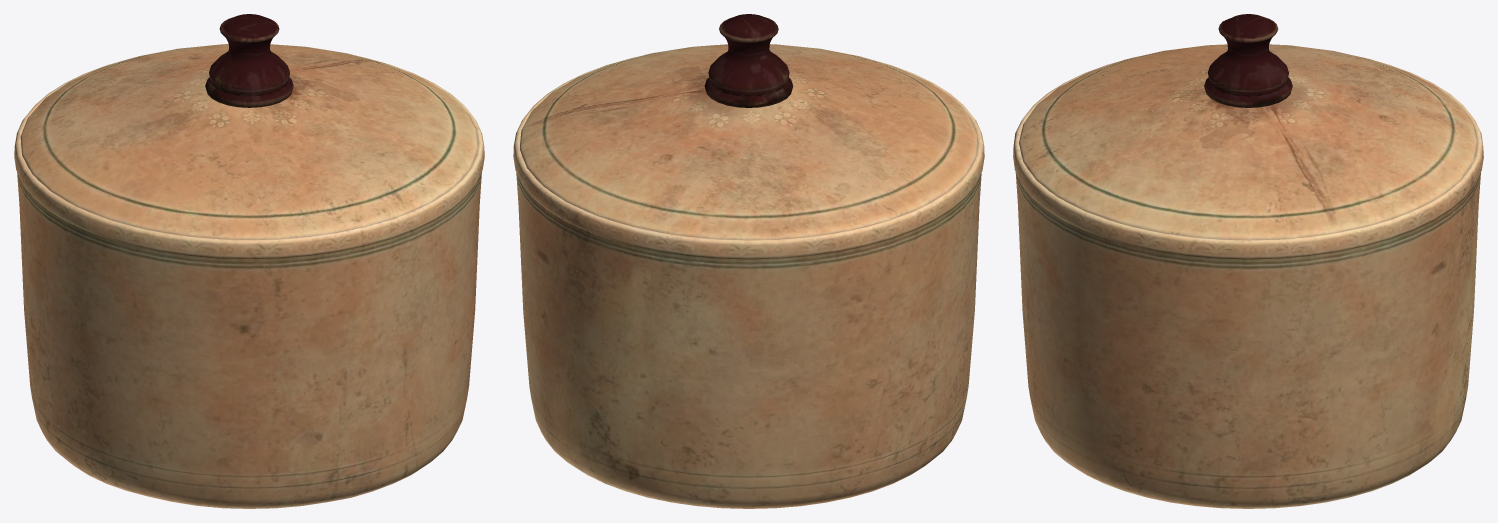
Rendered from brass_pot_01.glb.
3 renders of one model, left to right at view 1: azimuth 30°, elevation 25°; view 2: azimuth 150°, elevation 25°; view 3: azimuth 270°, elevation 25°, orthographic.
Visible parts, largest first — view 1: brass_pot_01; view 2: brass_pot_01; view 3: brass_pot_01.
Part boxes in pixels (x1,y1,x2,y2): brass_pot_01: (14, 14, 484, 508); brass_pot_01: (513, 14, 984, 508); brass_pot_01: (1013, 14, 1483, 508).
Size of the model in its own units: 0.3019 by 0.291 by 0.3017.
1 material, 1 textured.
